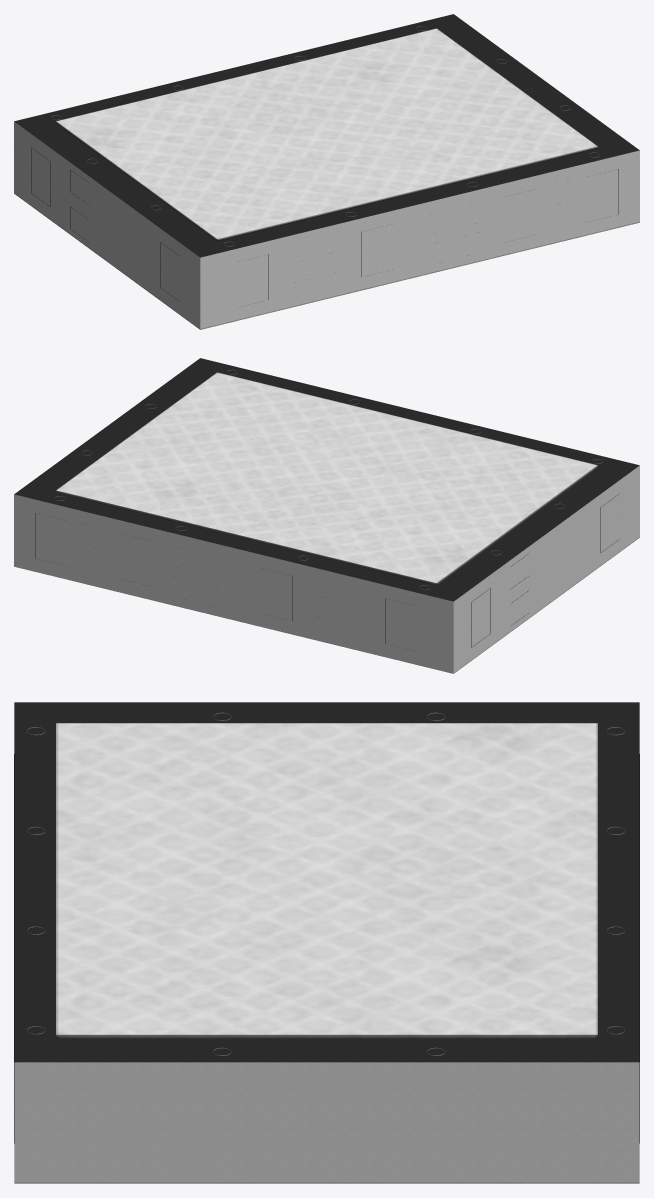
Rendered from galeria_nueva.glb.
3 views of the same model, one above another, from view 1: azimuth 30°, elevation 25°; view 2: azimuth 150°, elevation 25°; view 3: azimuth 270°, elevation 25° (orthographic). The views are drawn at different scales.
Visible parts, largest first — view 1: Art_Room; view 2: Art_Room; view 3: Art_Room.
Boxes of the visible parts, <box> form: Art_Room: <box>14,14,639,329</box>; Art_Room: <box>14,358,639,673</box>; Art_Room: <box>14,702,639,1183</box>.
Bounding box in the file's own units: 27.64 × 4.49 × 20.29.
Materials: 4 (2 with a texture image).
